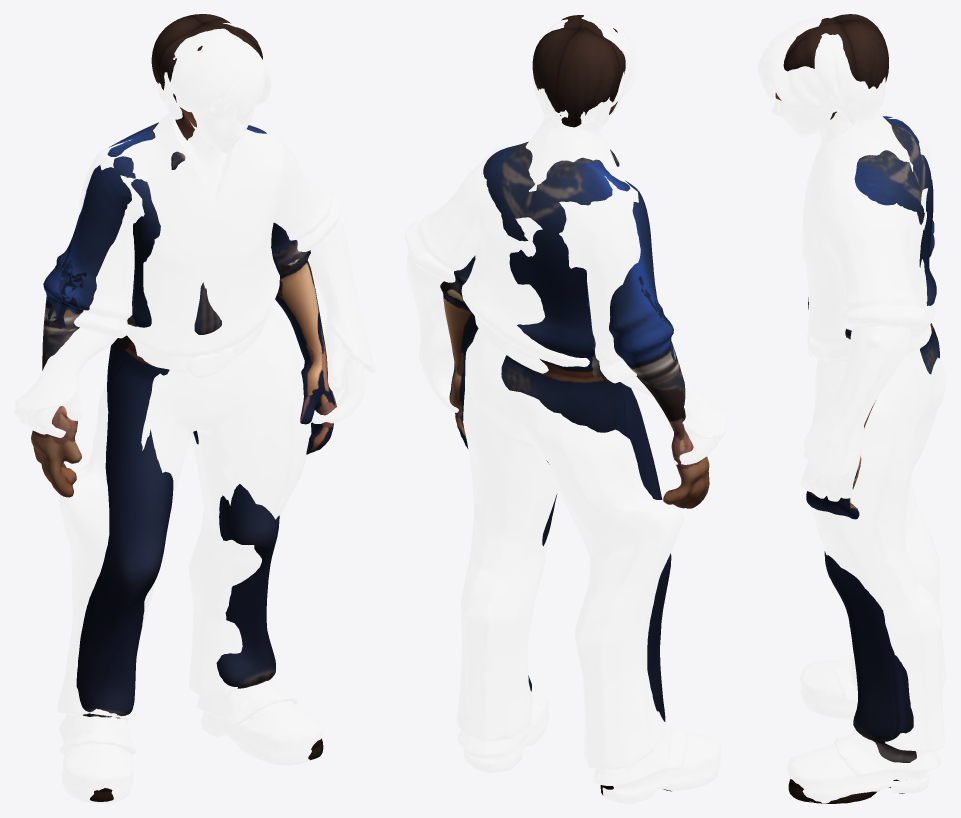
File: mage_wrapped.glb
3 views of the same model, side by side, from view 1: azimuth 30°, elevation 25°; view 2: azimuth 150°, elevation 25°; view 3: azimuth 270°, elevation 25° (orthographic). The views are drawn at different scales.
Parts seen in each view (by area): view 1: Outfit, Body; view 2: Outfit, Body; view 3: Outfit, Body.
Boxes of the visible parts, bbox=[...] form: Outfit: bbox=[14, 22, 375, 803]; Body: bbox=[31, 14, 336, 801]; Outfit: bbox=[404, 14, 728, 803]; Body: bbox=[440, 15, 709, 795]; Outfit: bbox=[757, 16, 946, 803]; Body: bbox=[775, 14, 939, 803].
Size of the model in its own units: 0.864 by 1.85 by 0.431.
Materials: 2 (1 with a texture image).
